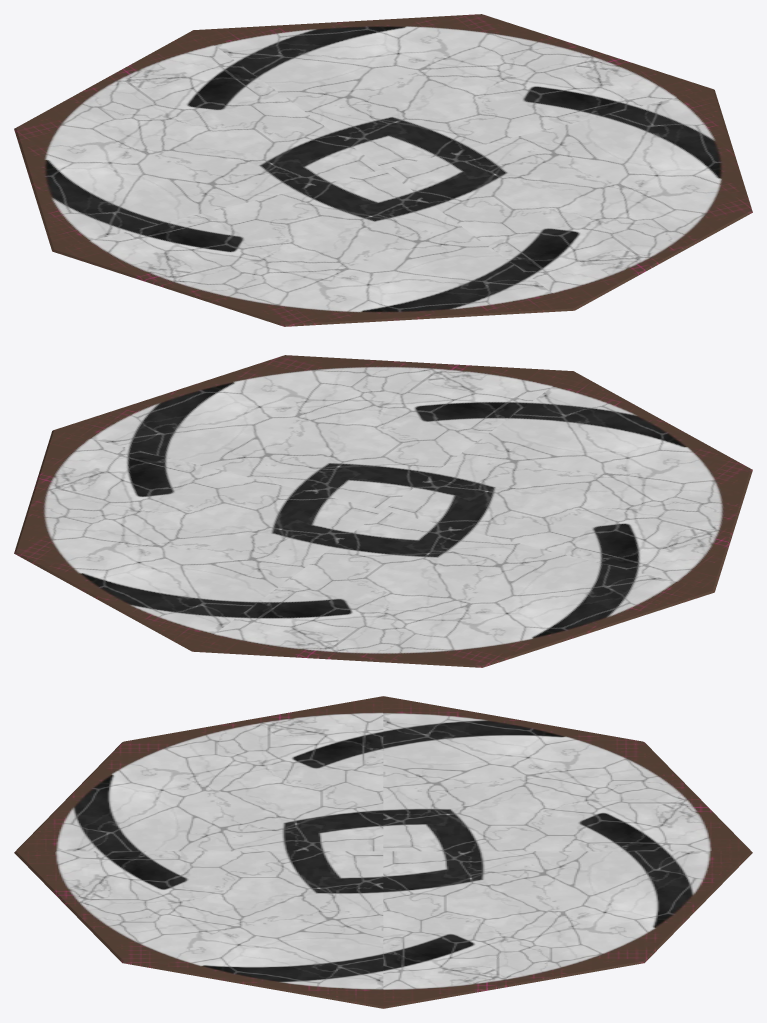
File: carpet-02.glb
3 views of the same model, one above another, from view 1: azimuth 30°, elevation 25°; view 2: azimuth 150°, elevation 25°; view 3: azimuth 270°, elevation 25° (orthographic). The views are drawn at different scales.
Parts seen in each view (by area): view 1: Carpet_02; view 2: Carpet_02; view 3: Carpet_02.
Part boxes in pixels (x1,y1,x2,y2): Carpet_02: [14, 14, 752, 326]; Carpet_02: [14, 355, 752, 667]; Carpet_02: [14, 696, 752, 1008].
Size of the model in its own units: 6.04 by 0.0125 by 6.04.
Materials: 1 (1 with a texture image).
